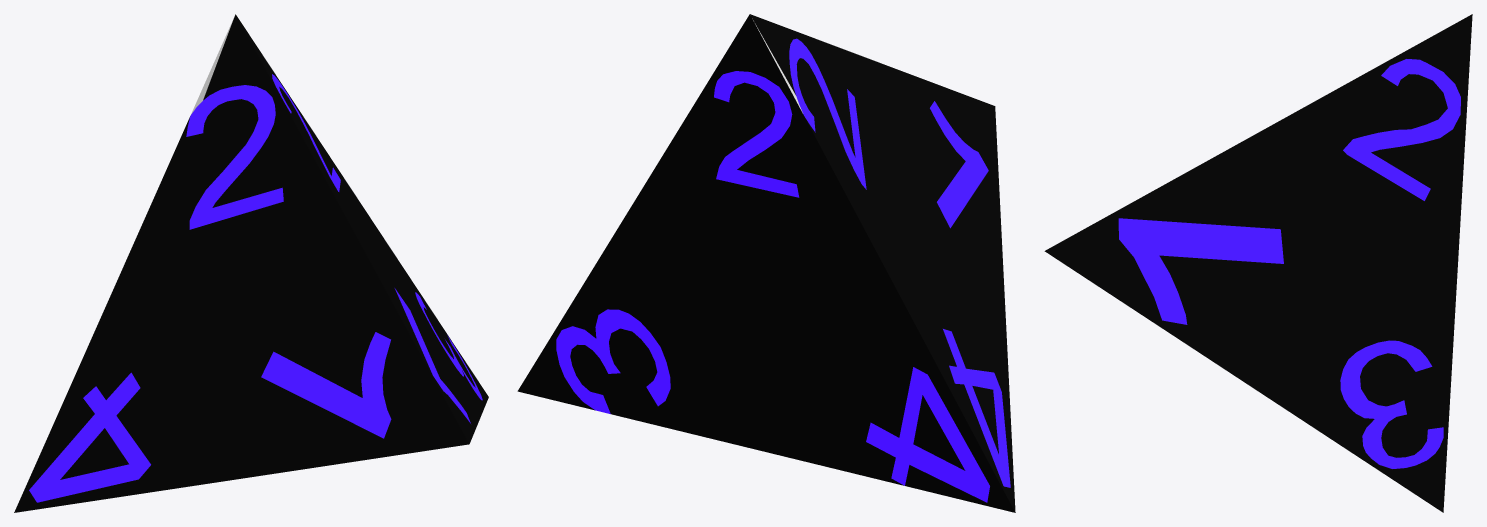
Rendered from dice4.glb.
The picture shows the model from 3 angles, left to right: view 1: azimuth 30°, elevation 25°; view 2: azimuth 150°, elevation 25°; view 3: azimuth 270°, elevation 25°; orthographic projection. The views are drawn at different scales.
Parts seen in each view (by area): view 1: d4; view 2: d4; view 3: d4.
Boxes of the visible parts, x1,y1,x2,y2 form: d4: (14, 14, 488, 512); d4: (517, 14, 1015, 512); d4: (1044, 14, 1472, 512).
Bounding box in the file's own units: 0.03 × 0.0259 × 0.0256.
Materials: 3 (1 with a texture image).
